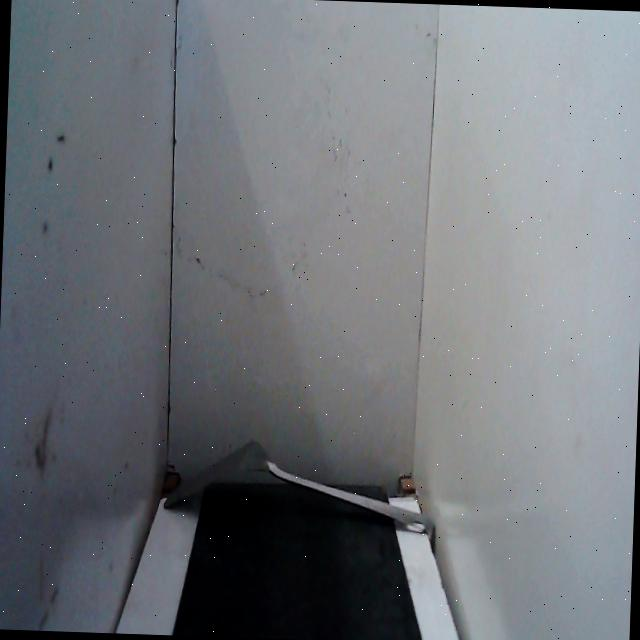metal: (158, 424, 444, 560)
